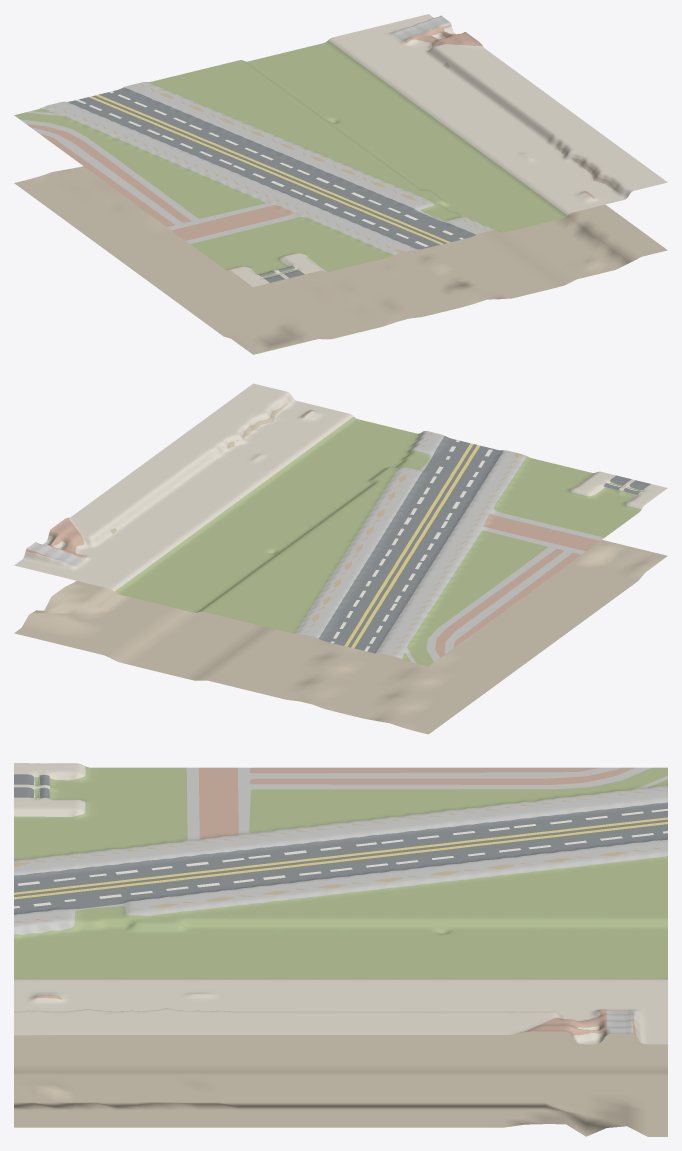
The picture shows the model from 3 angles, top to bottom: view 1: azimuth 30°, elevation 25°; view 2: azimuth 150°, elevation 25°; view 3: azimuth 270°, elevation 25°; orthographic projection. The views are drawn at different scales.
Visible parts, largest first — view 1: s_0_-5__grass, s_0_-5__soil, s_0_-5__paving, s_0_-5__stone_paving, s_0_-5__asphalt, s_0_-5__brick_paving, s_0_-5__yellow_marking, s_0_-5__white_marking, s_0_-5__timber_deck; view 2: s_0_-5__grass, s_0_-5__soil, s_0_-5__paving, s_0_-5__stone_paving, s_0_-5__asphalt, s_0_-5__brick_paving, s_0_-5__yellow_marking, s_0_-5__white_marking, s_0_-5__timber_deck; view 3: s_0_-5__grass, s_0_-5__soil, s_0_-5__paving, s_0_-5__stone_paving, s_0_-5__asphalt, s_0_-5__brick_paving, s_0_-5__yellow_marking, s_0_-5__white_marking, s_0_-5__timber_deck.
Boxes of the visible parts, box(x1,y1,x2,y2) form: s_0_-5__grass: box(14, 40, 567, 278); s_0_-5__soil: box(14, 62, 667, 354); s_0_-5__paving: box(228, 14, 667, 286); s_0_-5__stone_paving: box(20, 15, 496, 254); s_0_-5__asphalt: box(68, 87, 476, 282); s_0_-5__brick_paving: box(26, 19, 595, 240); s_0_-5__yellow_marking: box(88, 94, 450, 244); s_0_-5__white_marking: box(76, 91, 463, 246); s_0_-5__timber_deck: box(52, 84, 487, 252); s_0_-5__grass: box(114, 416, 641, 666); s_0_-5__soil: box(14, 403, 667, 734); s_0_-5__paving: box(14, 383, 667, 591); s_0_-5__stone_paving: box(27, 431, 604, 663); s_0_-5__asphalt: box(319, 436, 650, 653); s_0_-5__brick_paving: box(26, 410, 599, 657); s_0_-5__yellow_marking: box(344, 443, 479, 648); s_0_-5__white_marking: box(331, 440, 492, 651); s_0_-5__timber_deck: box(305, 432, 521, 655); s_0_-5__grass: box(14, 766, 667, 979); s_0_-5__soil: box(14, 881, 667, 1136); s_0_-5__paving: box(14, 763, 667, 1044); s_0_-5__stone_paving: box(14, 767, 667, 1034); s_0_-5__asphalt: box(14, 774, 667, 914); s_0_-5__brick_paving: box(32, 767, 636, 1036); s_0_-5__yellow_marking: box(14, 817, 667, 899); s_0_-5__white_marking: box(14, 808, 667, 908); s_0_-5__timber_deck: box(14, 789, 667, 922).
Size of the model in its own units: 128 by 23.76 by 128.
